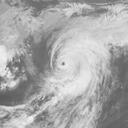cyclone: (45, 37, 91, 93)
